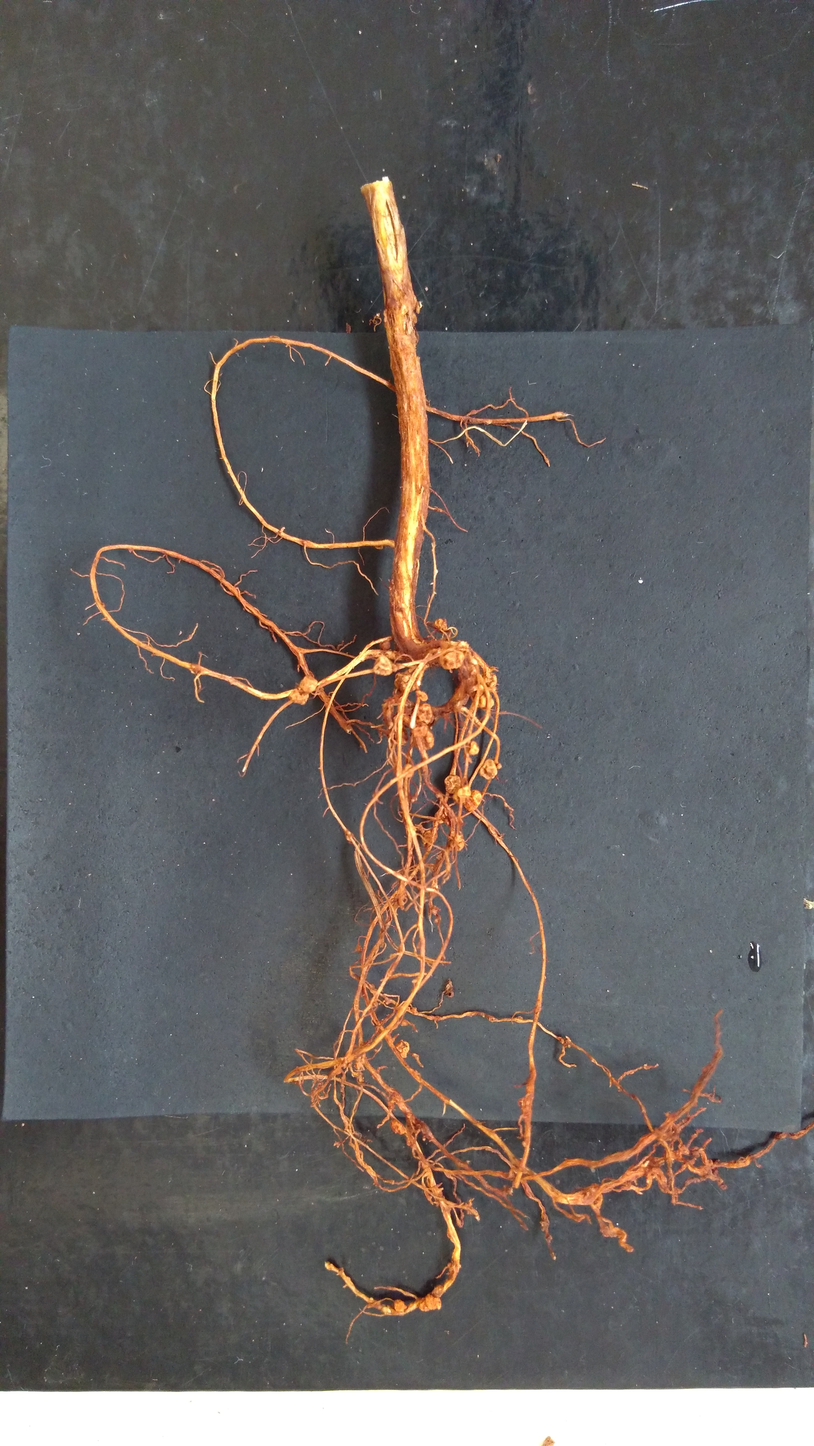nodule: (394, 664, 429, 692), (436, 649, 466, 672), (456, 662, 478, 686), (462, 788, 483, 813), (412, 726, 434, 749), (418, 1293, 443, 1313), (372, 655, 394, 677), (478, 758, 498, 781), (298, 674, 318, 694), (415, 703, 434, 724), (443, 774, 462, 794), (394, 1039, 411, 1061), (287, 690, 310, 706), (420, 827, 438, 845), (390, 1117, 406, 1137), (478, 693, 495, 711), (455, 784, 472, 800), (392, 1297, 408, 1313), (483, 672, 498, 689), (433, 617, 450, 631), (467, 740, 481, 757), (402, 762, 415, 778), (456, 834, 466, 852), (378, 641, 394, 652), (416, 690, 429, 702), (400, 1018, 409, 1026), (410, 1006, 418, 1013)
